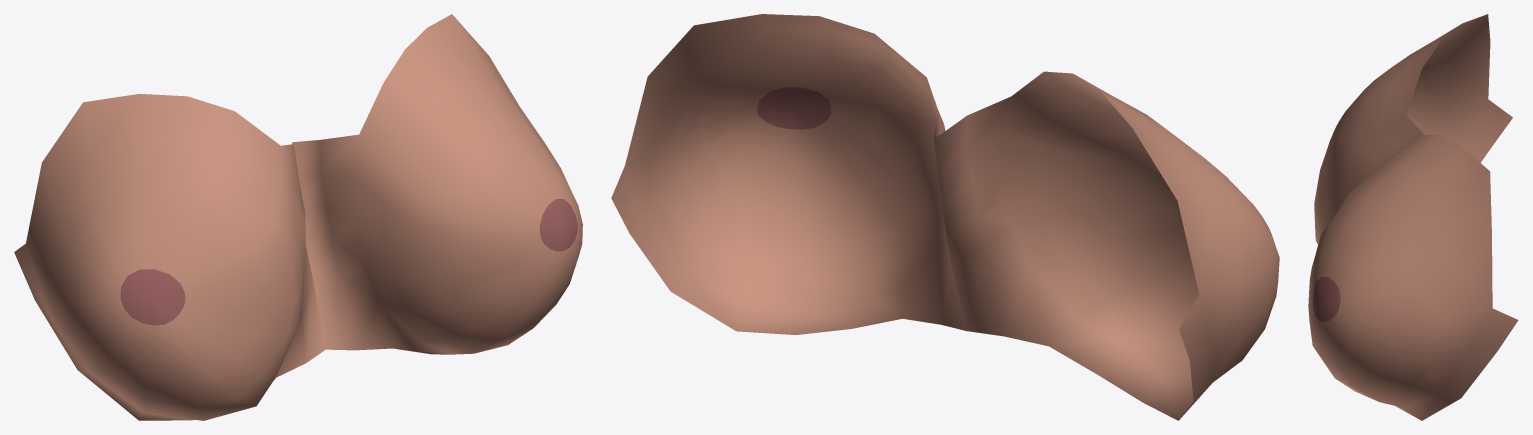
Rendered from Chest_NORMAL.fbx.
3 renders of one model, left to right at view 1: azimuth 30°, elevation 25°; view 2: azimuth 150°, elevation 25°; view 3: azimuth 270°, elevation 25°, orthographic. The views are drawn at different scales.
Parts seen in each view (by area): view 1: Chest_Normal; view 2: Chest_Normal; view 3: Chest_Normal.
Part boxes in pixels (<box>): Chest_Normal: <box>14,14,582,420</box>; Chest_Normal: <box>611,14,1279,420</box>; Chest_Normal: <box>1308,14,1518,420</box>.
Size of the model in its own units: 2123 by 1236 by 905.
